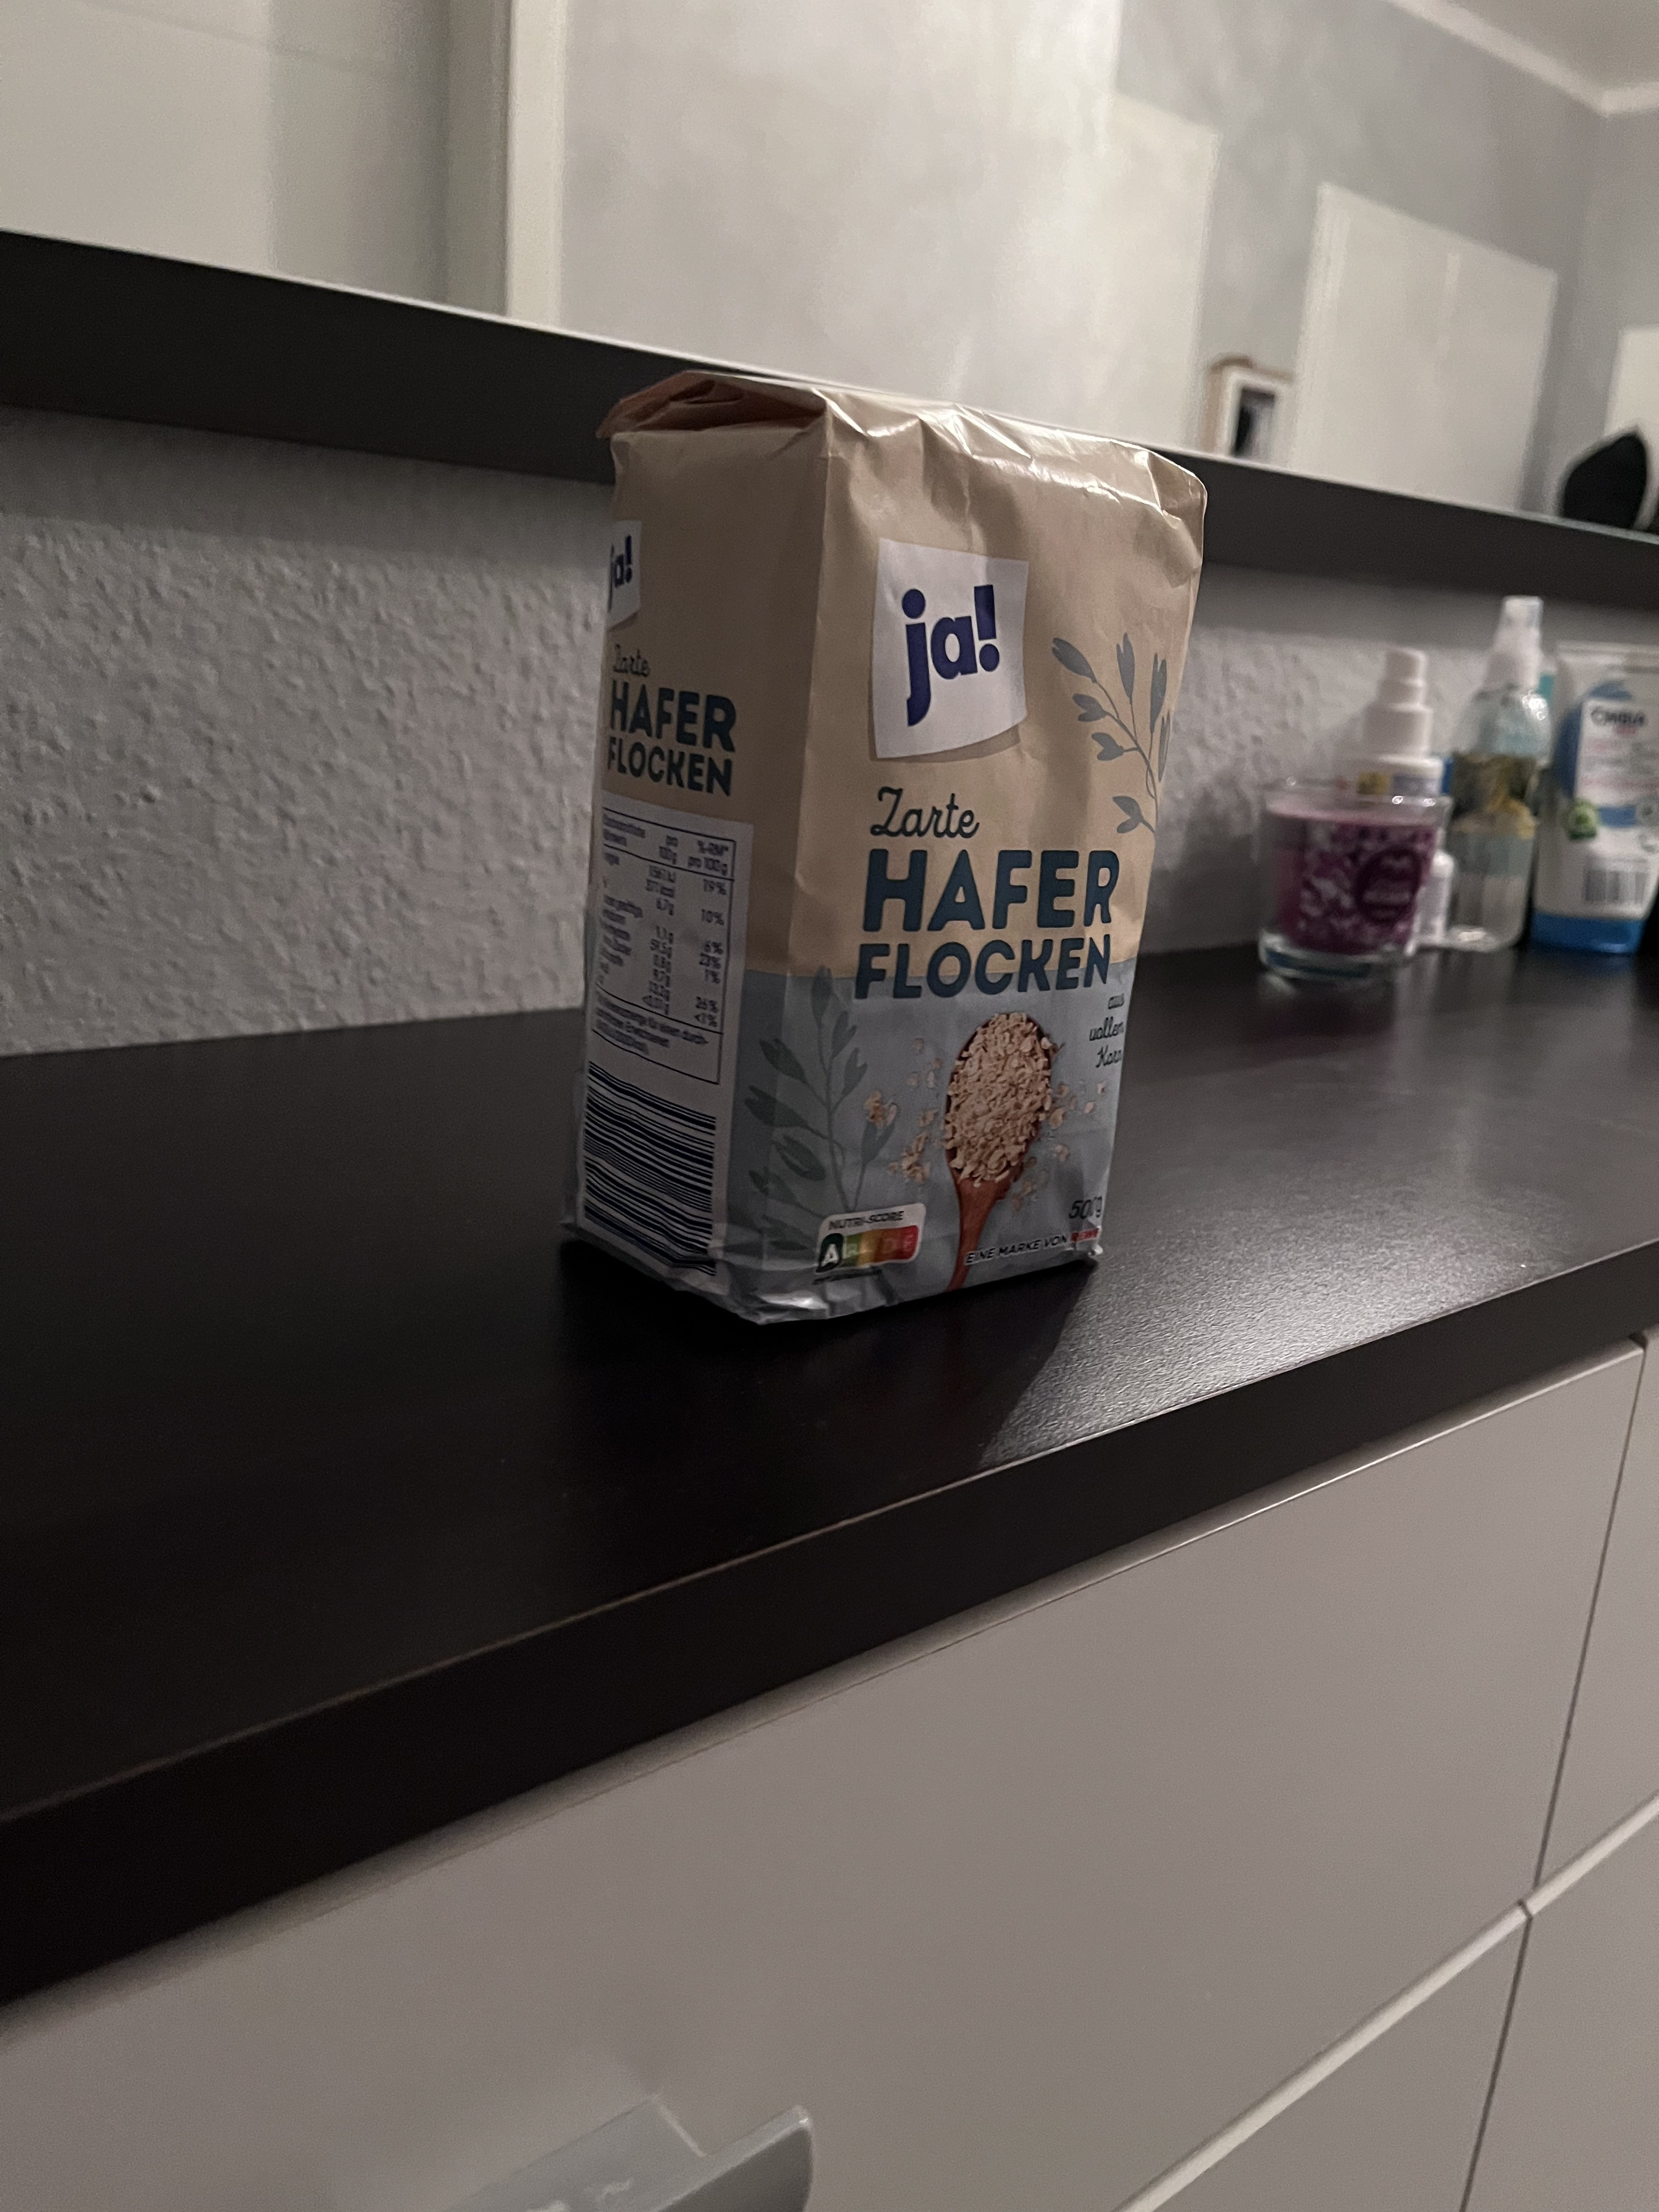haferflocken_ja: (559, 362, 1209, 1339)
